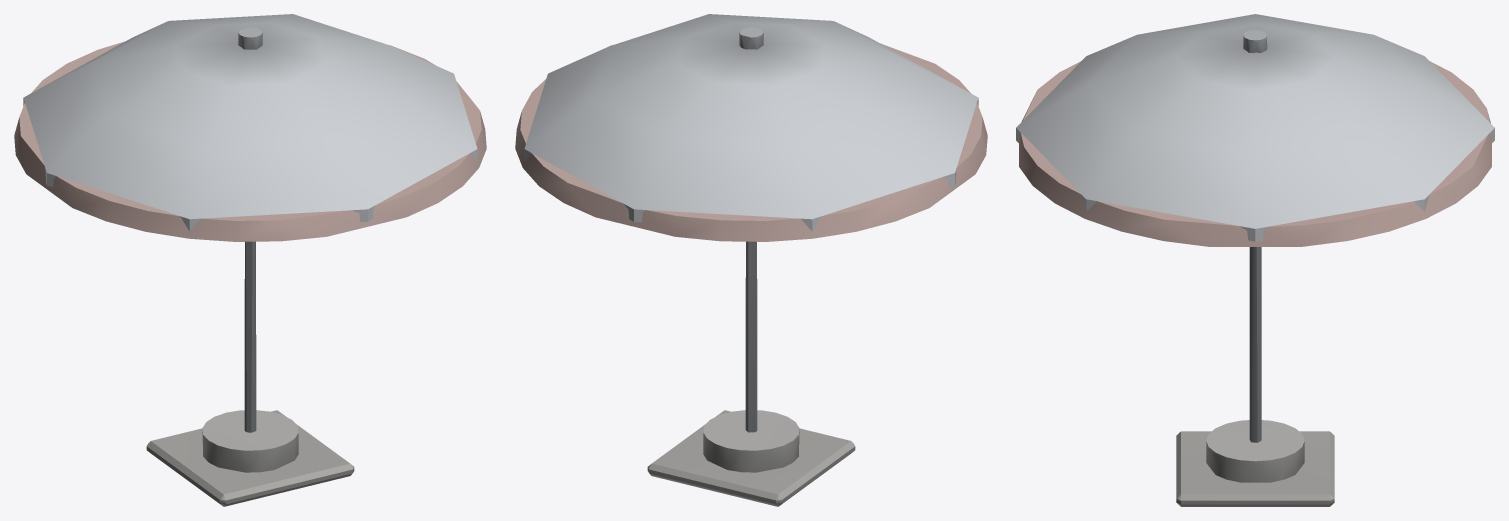
The model's file is parasol.lod1.glb.
3 views of the same model, side by side, from view 1: azimuth 30°, elevation 25°; view 2: azimuth 150°, elevation 25°; view 3: azimuth 270°, elevation 25° (orthographic).
Bounding box in the file's own units: 2.72 × 2.76 × 2.72.
